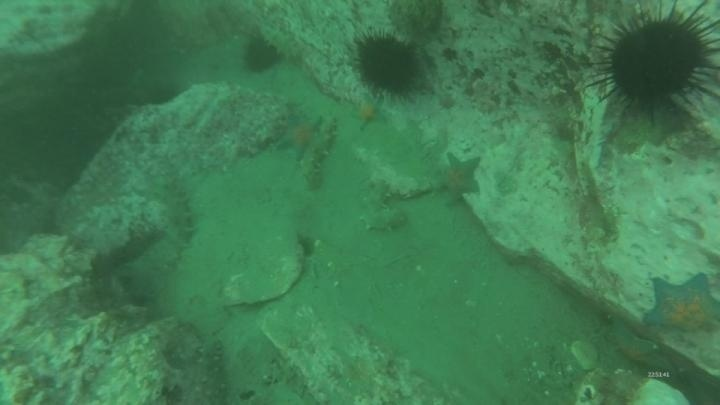echinus: (591, 3, 720, 124), (351, 29, 425, 100), (240, 35, 282, 75)
holothurian: (150, 174, 198, 270), (357, 173, 409, 235), (299, 118, 339, 193), (192, 332, 231, 405), (257, 21, 304, 64)
starfish: (642, 272, 720, 337), (604, 318, 664, 373), (434, 151, 484, 205), (274, 112, 325, 162), (348, 93, 389, 132)
